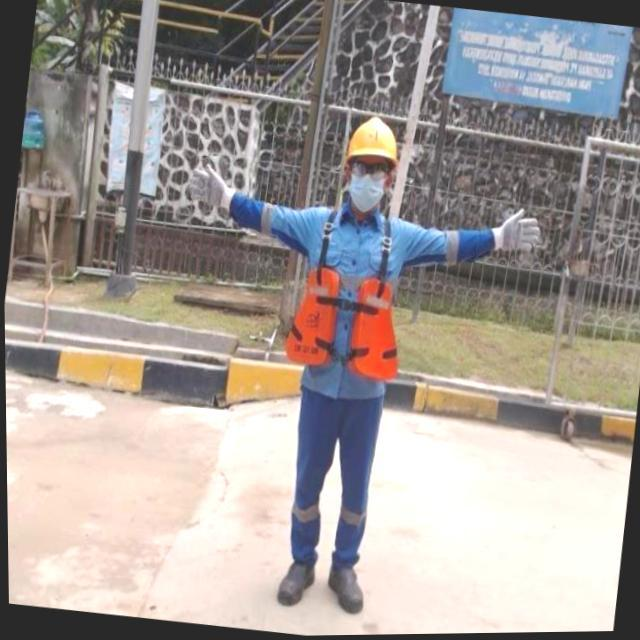goggles_on: (344, 151, 399, 183)
